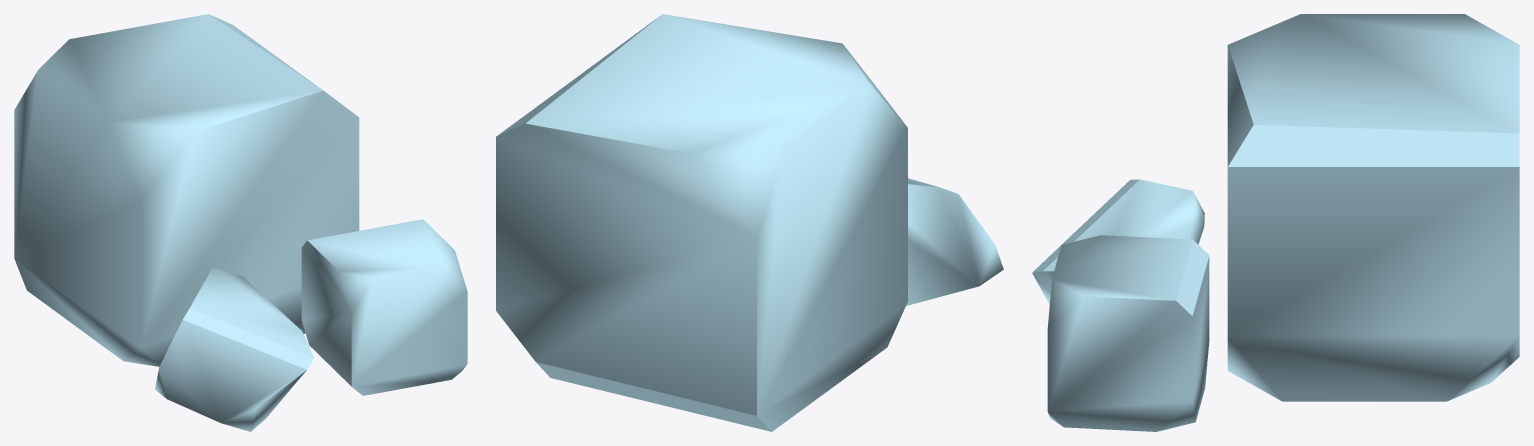
Rendered from ice.fbx.
The picture shows the model from 3 angles, left to right: view 1: azimuth 30°, elevation 25°; view 2: azimuth 150°, elevation 25°; view 3: azimuth 270°, elevation 25°; orthographic projection. The views are drawn at different scales.
Visible parts, largest first — view 1: Ice_Cube1, Ice_Cube2, Ice_Cube3; view 2: Ice_Cube1, Ice_Cube3; view 3: Ice_Cube1, Ice_Cube2, Ice_Cube3.
Part boxes in pixels (left/top/right/bottom): Ice_Cube1: left=14, top=14, right=359, bottom=366; Ice_Cube2: left=301, top=219, right=467, bottom=395; Ice_Cube3: left=155, top=267, right=313, bottom=431; Ice_Cube1: left=496, top=14, right=907, bottom=431; Ice_Cube3: left=906, top=178, right=1003, bottom=305; Ice_Cube1: left=1227, top=14, right=1519, bottom=401; Ice_Cube2: left=1047, top=235, right=1209, bottom=431; Ice_Cube3: left=1032, top=179, right=1204, bottom=304.
Size of what is drawn, in the model's own units: 143 by 119 by 181.
